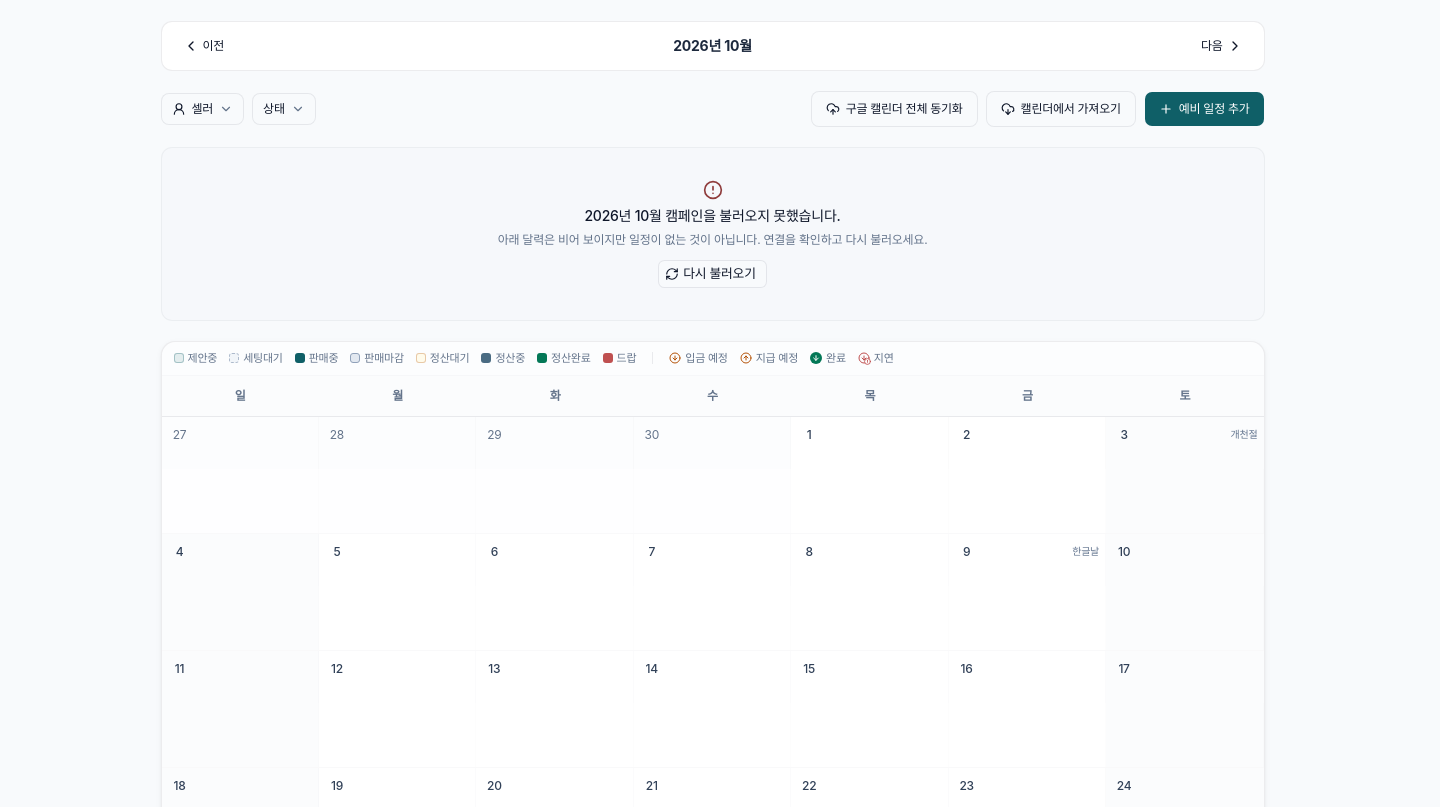
Test: CalendarPageClient 응답 파싱 (버그 회귀: 항상 빈 달력) › 「다시 불러오기」는 같은 달을 다시 조회하고, 성공하면 안내를 거둔다
Expected: the message is shown, [160, 147, 1264, 321]
Click the button "다시 불러오기": {"x": 712, "y": 274} [658, 260, 767, 288]
(page scrolled)
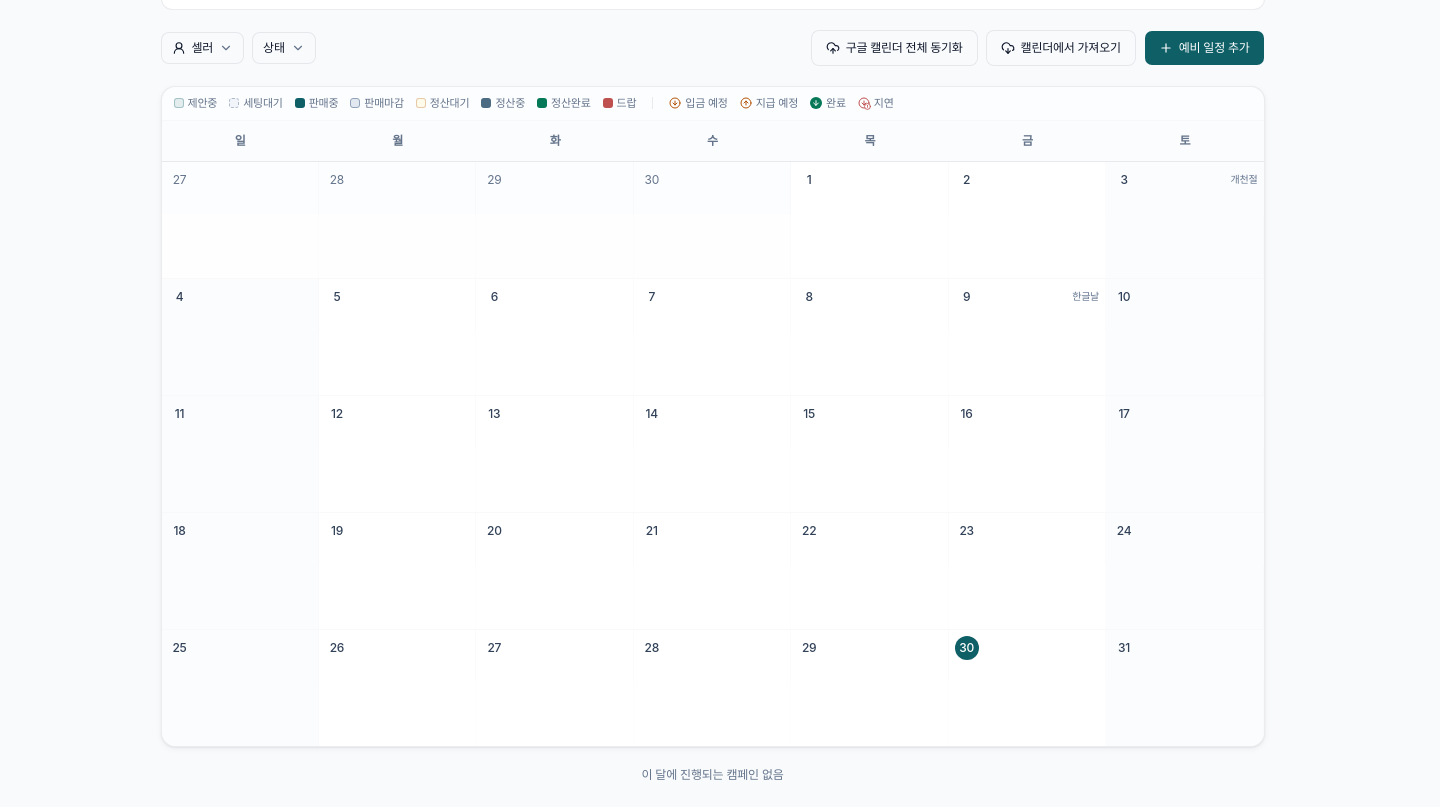
Expected: the text "이 달에 진행되는 캠페인 없음" is shown, [641, 766, 784, 782]
Expected: the message "2026년 10월 캠페인을 불러오지 못했습니다. 아래 달력은 비어 보이지만 일정이 없는 것이 아닙니다. 연결을 확인하고 다시 불러오세요. 다시" is gone
